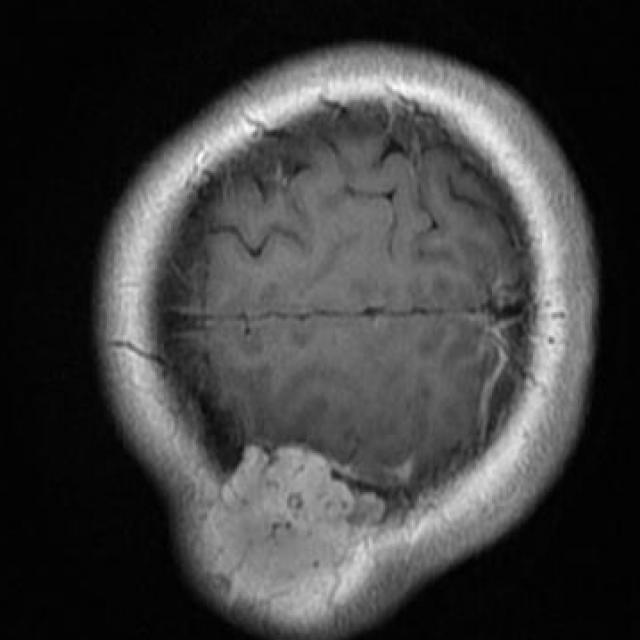meningioma: (219, 446, 382, 585)
